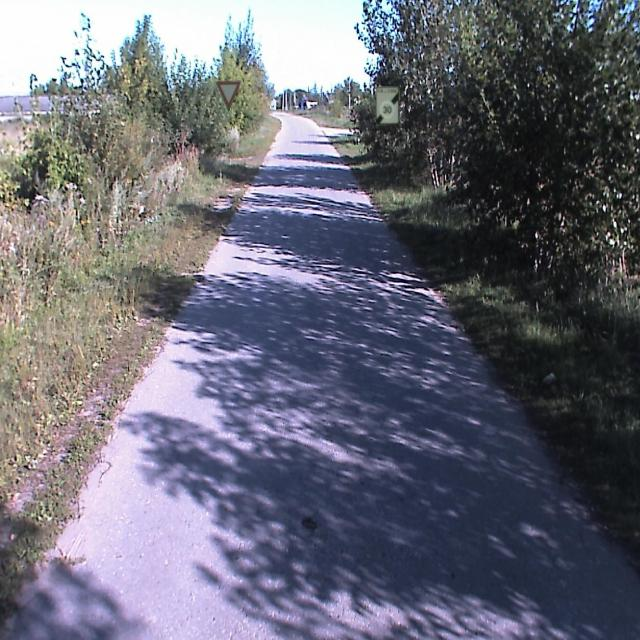road: (10, 118, 639, 639)
